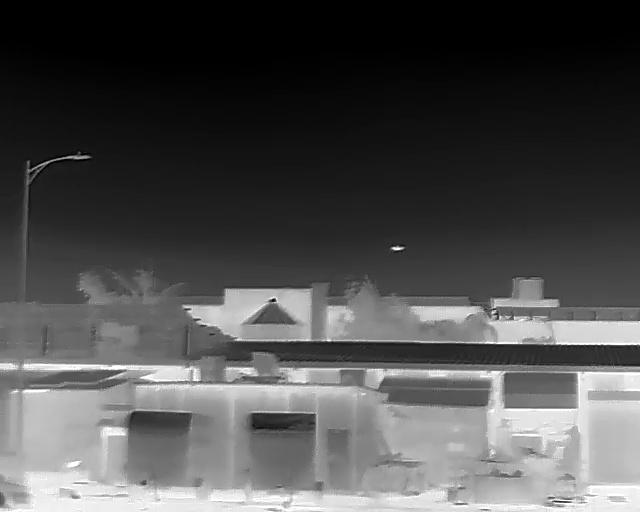fpv-drone: (389, 244, 404, 252)
